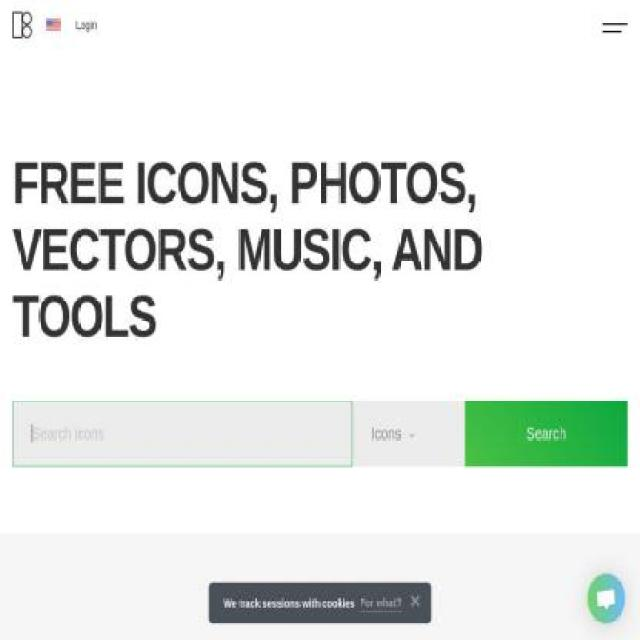button: (464, 402, 628, 469)
field: (12, 402, 352, 469)
